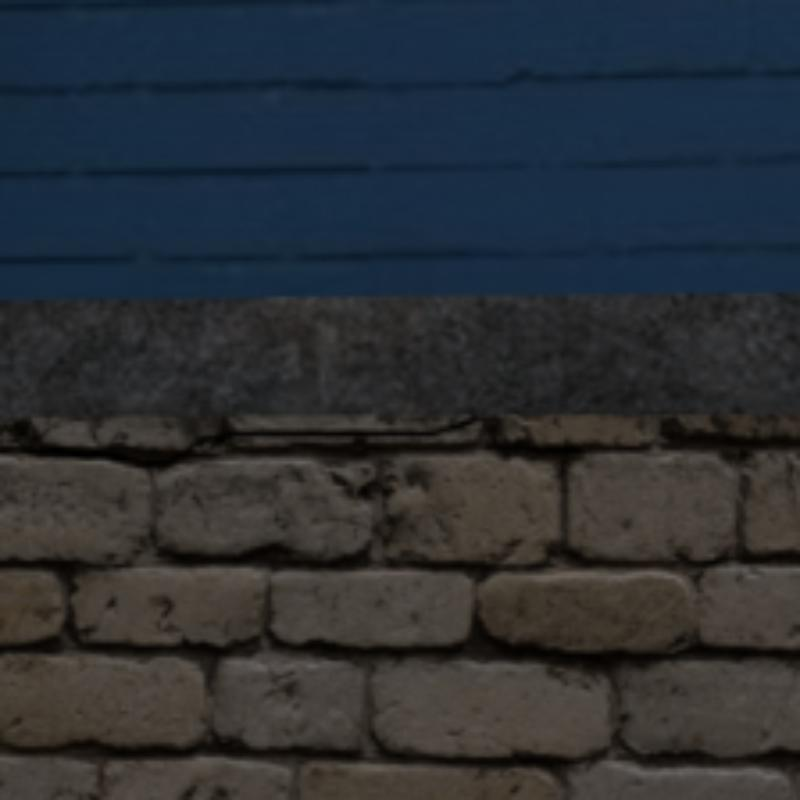pothole: (0, 429, 421, 464)
